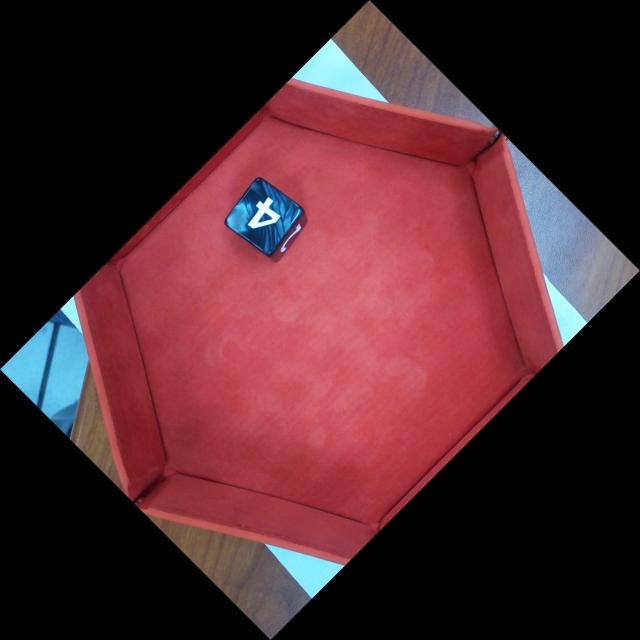dice: (223, 176, 305, 258)
